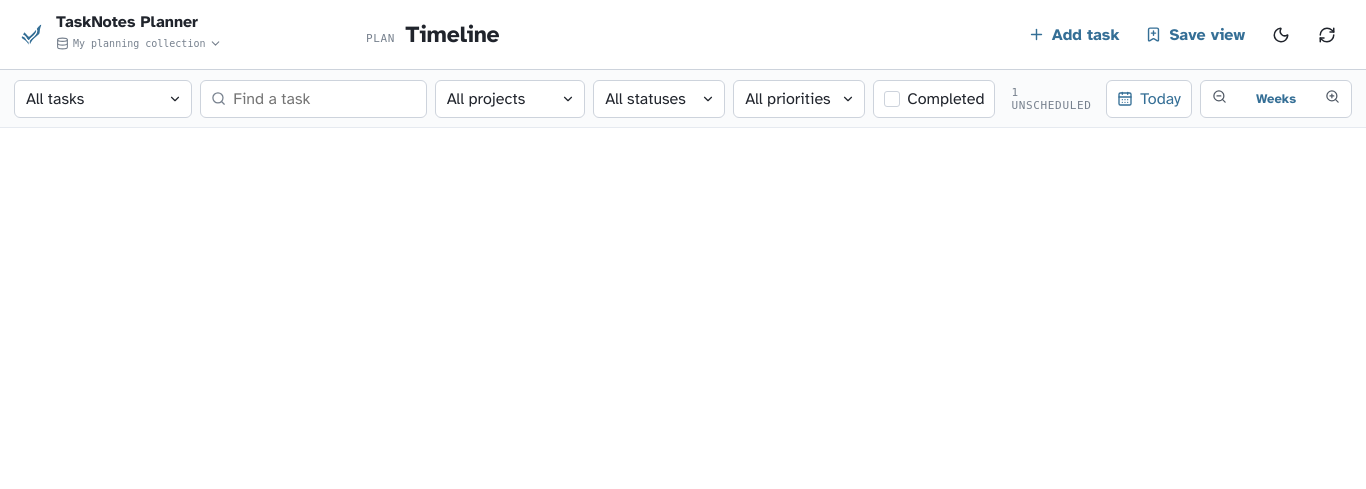
Test: Planner empty states › keeps search-filtered tasks distinct from a collection with no tasks
Expected: the button "My planning collection" is shown, [56,31,222,55]
In the search field named "Search tasks": (324, 98) [233,80,416,116], type "nothing matches this phrase"
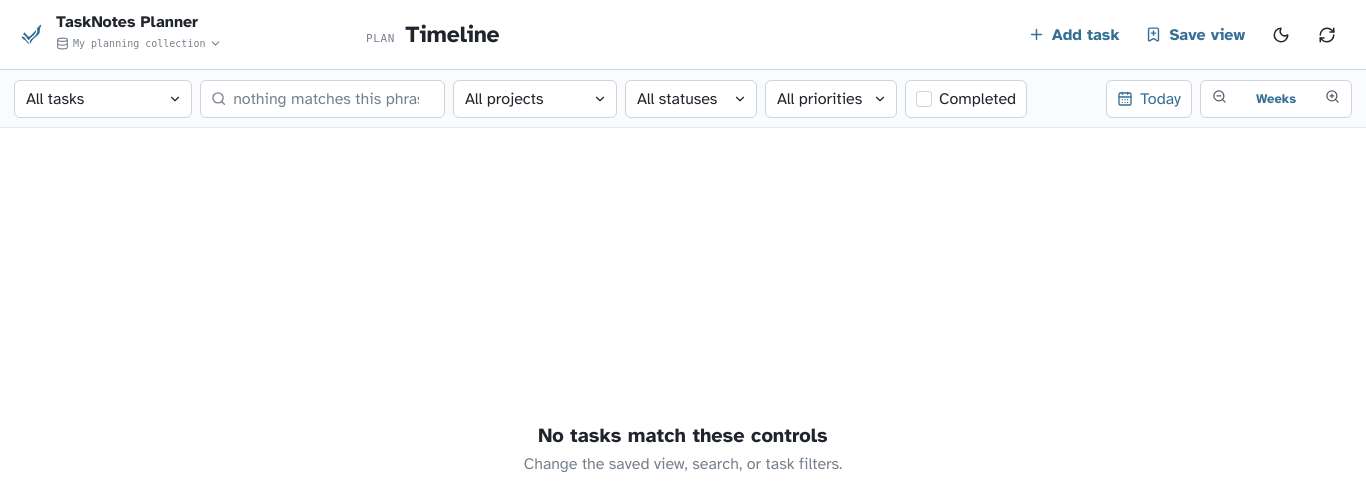
Expected: the heading "No tasks match these controls" is shown, [524,422,842,448]
